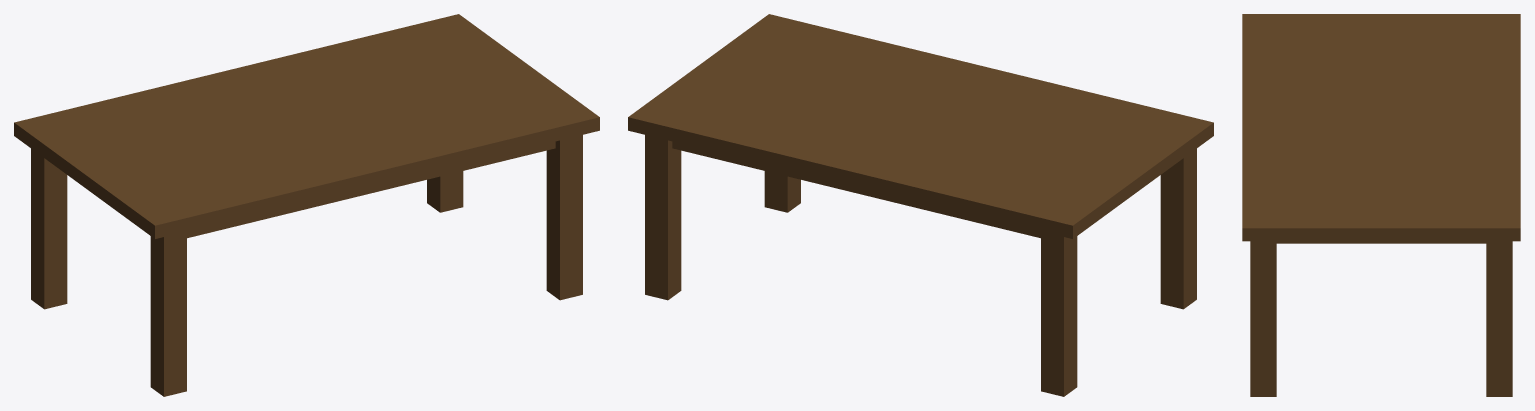
File: Table.glb
3 renders of one model, left to right at view 1: azimuth 30°, elevation 25°; view 2: azimuth 150°, elevation 25°; view 3: azimuth 270°, elevation 25°, orthographic.
Parts seen in each view (by area): view 1: Plane; view 2: Plane; view 3: Plane.
Boxes of the visible parts, <box> form: Plane: <box>14,14,599,396</box>; Plane: <box>628,14,1213,396</box>; Plane: <box>1242,14,1520,396</box>.
Size of the model in its own units: 762 by 291 by 419.
